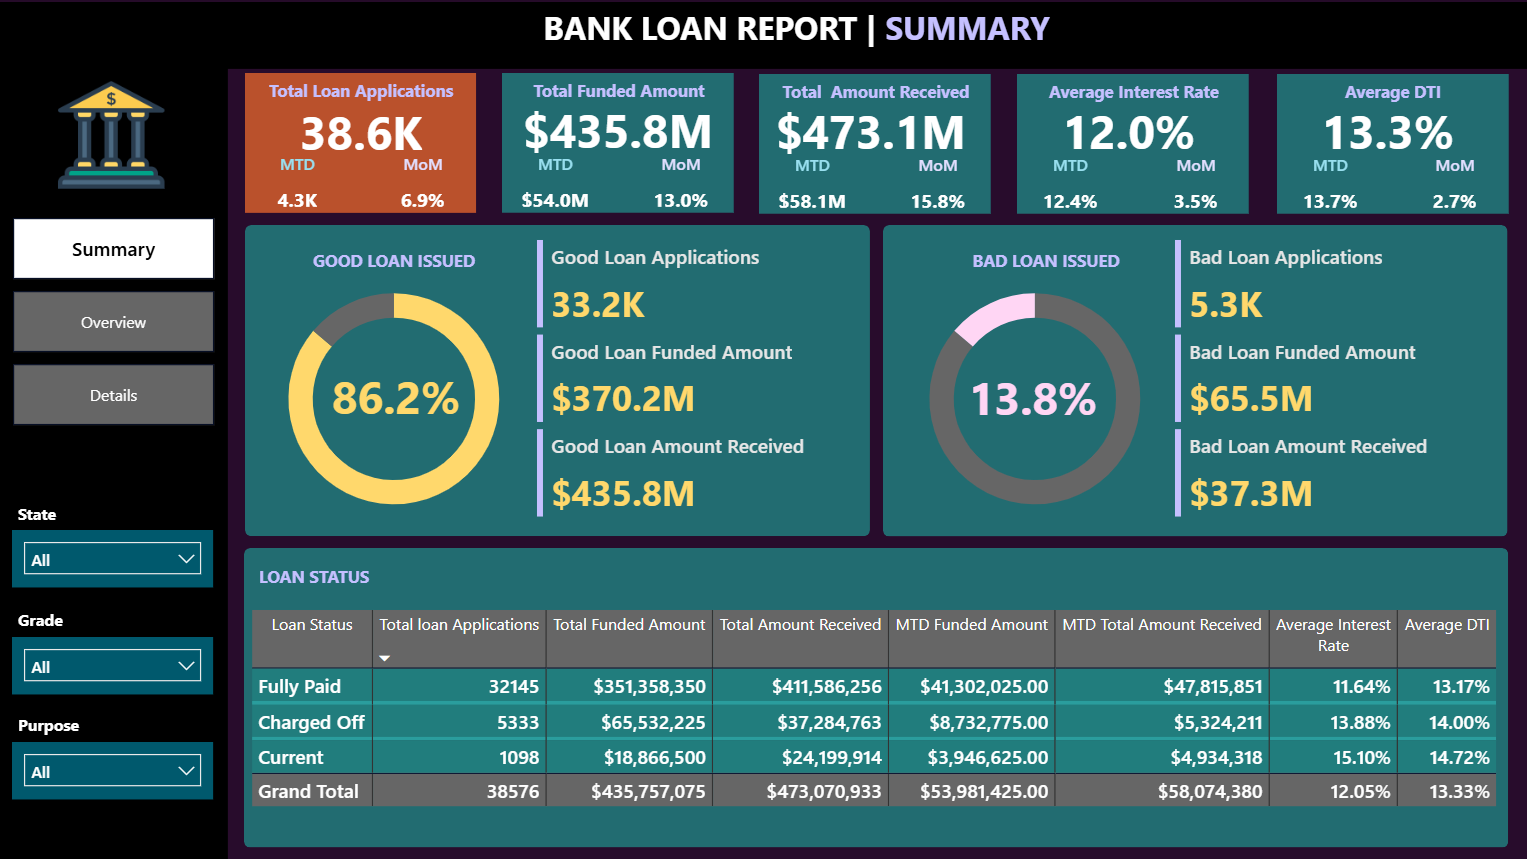

What the dashboard file says about the page in this screenshot:
{"tool":"powerbi","page":{"name":"Summary","canvas":[1280,720],"ordinal":0},"visuals":[{"type":"shape","box":[0,55,192.4,665],"z":0},{"type":"shape","box":[206.5,61.9,193.4,116.8],"z":0,"group":"g1"},{"type":"shape","box":[421,61.9,193.6,116.7],"z":0,"group":"g3"},{"type":"shape","box":[636.1,62.8,193.6,116.7],"z":0,"group":"g4"},{"type":"shape","box":[850.9,62.8,193.6,116.7],"z":0,"group":"g5"},{"type":"shape","box":[1067.6,62.8,193.6,116.7],"z":0,"group":"g6"},{"type":"shape","box":[0,2.7,1280.4,55.9],"z":1000},{"type":"cardVisual","fields":{"Data":["financial_loan.Total Funded Amount"]},"box":[393.3,68.2,249.4,72.8],"z":1000,"group":"g3"},{"type":"cardVisual","fields":{"Data":["financial_loan.Total Amount Received"]},"box":[610.9,68.3,237.6,73.7],"z":1000,"group":"g4"},{"type":"cardVisual","fields":{"Data":["financial_loan.Avg Interest Rate"]},"box":[825.7,68.3,237.6,73.7],"z":1000,"group":"g5"},{"type":"cardVisual","fields":{"Data":["financial_loan.Avg DTI"]},"box":[1042,68.4,237.6,73.7],"z":1000,"group":"g6"},{"type":"cardVisual","fields":{"Data":["financial_loan.Total loan Applications"]},"box":[206.5,70,194.4,72.5],"z":1000,"group":"g1"},{"type":"cardVisual","fields":{"Data":["financial_loan.Good Loan %"]},"box":[250,300,165.7,54.6],"z":1000,"group":"g7"},{"type":"cardVisual","fields":{"Data":["financial_loan.Bad Loan %"]},"box":[782,300.4,165.7,54.6],"z":1000,"group":"g8"},{"type":"textbox","box":[206.3,62.2,193.8,28.8],"z":2000,"group":"g1"},{"type":"textbox","box":[421.6,62.2,193.8,28.8],"z":2000,"group":"g3"},{"type":"textbox","box":[636.8,63.1,193.8,28.8],"z":2000,"group":"g4"},{"type":"textbox","box":[851.6,63.1,193.8,28.8],"z":2000,"group":"g5"},{"type":"textbox","box":[1068.2,63.1,193.8,28.8],"z":2000,"group":"g6"},{"type":"shape","box":[206.7,188.4,522,260],"z":2000},{"type":"textbox","box":[442.6,0,448.4,71],"z":3000},{"type":"cardVisual","title":"MTD","fields":{"Data":["financial_loan.MTD Loan Applicaitons"]},"box":[205.7,128.5,89.4,50],"z":3000,"group":"g1"},{"type":"cardVisual","title":"MTD","fields":{"Data":["financial_loan.MTD Funded Amount"]},"box":[421,128.5,89.4,50],"z":3000,"group":"g3"},{"type":"cardVisual","title":"MTD","fields":{"Data":["financial_loan.MTD Total Amount Received"]},"box":[636.1,129.4,89.4,50],"z":3000,"group":"g4"},{"type":"cardVisual","title":"MTD","fields":{"Data":["financial_loan.MTD Avg Interest Rate"]},"box":[850.9,129.4,89.4,50],"z":3000,"group":"g5"},{"type":"cardVisual","title":"MTD","fields":{"Data":["financial_loan.MTD Avg DTI"]},"box":[1067.6,129.4,89.4,50],"z":3000,"group":"g6"},{"type":"group","id":"g1","title":"Group 2","box":[205.7,61.9,195.5,116.7],"z":3001,"group":"g2"},{"type":"cardVisual","title":"MoM","fields":{"Data":["financial_loan.MoM Loan Application"]},"box":[310.7,129.1,88.8,50],"z":4000,"group":"g1"},{"type":"cardVisual","title":"MoM","fields":{"Data":["financial_loan.MoM Total Funded Amount"]},"box":[526,129.1,88.8,50],"z":4000,"group":"g3"},{"type":"cardVisual","title":"MoM","fields":{"Data":["financial_loan.MoM Total Amount Received"]},"box":[741.1,130,88.8,50],"z":4000,"group":"g4"},{"type":"cardVisual","title":"MoM","fields":{"Data":["financial_loan.MoM Avg Interest Rate"]},"box":[955.9,130,88.8,50],"z":4000,"group":"g5"},{"type":"cardVisual","title":"MoM","fields":{"Data":["financial_loan.MoM Avg DTI"]},"box":[1172.6,130,88.8,50],"z":4000,"group":"g6"},{"type":"textbox","box":[234,203.9,193.9,29.1],"z":4000},{"type":"group","id":"g2","title":"Group 1","box":[205.7,61.9,195.7,116.5],"z":5000},{"type":"group","id":"g3","title":"Group 3","box":[393.3,61.9,249.4,117.4],"z":6000},{"type":"group","id":"g4","title":"Group 3","box":[610.9,62.8,237.6,117.4],"z":7000},{"type":"shape","box":[739.2,188.4,521.7,260.4],"z":8000},{"type":"donutChart","fields":{"Category":["financial_loan.Good vs Bad Loan"],"Y":["financial_loan.Total loan Applications"]},"box":[205.7,218.5,250.4,230.3],"z":9000},{"type":"group","id":"g5","title":"Group 3","box":[825.7,62.8,237.6,117.4],"z":10000},{"type":"group","id":"g6","title":"Group 3","box":[1042,62.8,237.6,117.2],"z":11000},{"type":"group","id":"g7","title":"Group 3","box":[250,300,165.7,54.6],"z":12000},{"type":"cardVisual","fields":{"Data":["financial_loan.Good Loan Applications","financial_loan.Good Loan Funded Amount","financial_loan.Good Loan Amount Received"]},"box":[445.2,196.6,283.1,243.1],"z":13000},{"type":"donutChart","fields":{"Category":["financial_loan.Good vs Bad Loan"],"Y":["financial_loan.Total loan Applications"]},"box":[741.1,218.5,250.4,230.3],"z":14000},{"type":"textbox","box":[778.4,203.9,193.9,29.1],"z":15000},{"type":"group","id":"g8","title":"Group 3","box":[782,300.4,165.7,54.6],"z":16000},{"type":"cardVisual","fields":{"Data":["financial_loan.Bad Loan Applications","financial_loan.Bad Loan Funded Amount","financial_loan.Bad Loan Amount Received"]},"box":[977.8,196.6,283.1,243.1],"z":17000},{"type":"shape","box":[205.7,458.8,1056,250.4],"z":18000},{"type":"tableEx","fields":{"Values":["financial_loan.loan_status","financial_loan.Total loan Applications","financial_loan.Total Funded Amount","financial_loan.Total Amount Received","financial_loan.MTD Funded Amount","financial_loan.MTD Total Amount Received","financial_loan.Avg Interest Rate","financial_loan.Avg DTI"]},"box":[206.7,505.3,1056,179.3],"z":19000},{"type":"textbox","box":[213,467.9,193.9,29.1],"z":20000},{"type":"slicer","fields":{"Values":["financial_loan.address_state"]},"box":[11.8,443.3,168.4,48.3],"z":21000,"group":"g9"},{"type":"textbox","box":[11.8,415.1,55.5,29.1],"z":22000,"group":"g9"},{"type":"slicer","fields":{"Values":["financial_loan.grade"]},"box":[11.8,532.5,168.4,48.3],"z":23000,"group":"g9"},{"type":"slicer","fields":{"Values":["financial_loan.address_state","financial_loan.purpose"]},"box":[11.8,620.8,168.4,48.3],"z":24000,"group":"g9"},{"type":"textbox","box":[11.8,503.4,55.5,29.1],"z":25000,"group":"g9"},{"type":"textbox","box":[11.8,591.7,84.7,29.1],"z":26000,"group":"g9"},{"type":"group","id":"g9","title":"Group 4","box":[11.8,415.1,168.4,254],"z":26001},{"type":"group","id":"g10","title":"Group 5","box":[12.4,58.5,168.5,298.8],"z":26002},{"type":"pageNavigator","box":[12.4,182.6,168.5,174.7],"z":27000,"group":"g10"},{"type":"image","box":[45.2,58.5,99.3,110],"z":28000,"group":"g10"}]}

Visuals, with their boxes in screenshot pixels (x1, y1, x2, y2), scaled from the page's 1280x720 canvas onto the 1527x859 screenshot:
shape: (0,66,230,858)
shape: (246,74,477,213)
shape: (502,74,733,213)
shape: (759,75,990,214)
shape: (1015,75,1246,214)
shape: (1274,75,1505,214)
shape: (0,3,1526,70)
cardVisual - financial_loan.Total Funded Amount: (469,81,767,168)
cardVisual - financial_loan.Total Amount Received: (729,81,1012,169)
cardVisual - financial_loan.Avg Interest Rate: (985,81,1268,169)
cardVisual - financial_loan.Avg DTI: (1243,82,1526,170)
cardVisual - financial_loan.Total loan Applications: (246,84,478,170)
cardVisual - financial_loan.Good Loan %: (298,358,496,423)
cardVisual - financial_loan.Bad Loan %: (933,358,1131,424)
textbox: (246,74,477,109)
textbox: (503,74,734,109)
textbox: (760,75,991,110)
textbox: (1016,75,1247,110)
textbox: (1274,75,1506,110)
shape: (247,225,869,535)
textbox: (528,0,1063,85)
"MTD" cardVisual: (245,153,352,213)
"MTD" cardVisual: (502,153,609,213)
"MTD" cardVisual: (759,154,865,214)
"MTD" cardVisual: (1015,154,1122,214)
"MTD" cardVisual: (1274,154,1380,214)
"Group 2" group: (245,74,479,213)
"MoM" cardVisual: (371,154,477,214)
"MoM" cardVisual: (628,154,733,214)
"MoM" cardVisual: (884,155,990,215)
"MoM" cardVisual: (1140,155,1246,215)
"MoM" cardVisual: (1399,155,1505,215)
textbox: (279,243,510,278)
"Group 1" group: (245,74,479,213)
"Group 3" group: (469,74,767,214)
"Group 3" group: (729,75,1012,215)
shape: (882,225,1504,535)
donutChart - financial_loan.Good vs Bad Loan x financial_loan.Total loan Applications: (245,261,544,535)
"Group 3" group: (985,75,1268,215)
"Group 3" group: (1243,75,1526,215)
"Group 3" group: (298,358,496,423)
cardVisual - financial_loan.Good Loan Applications x financial_loan.Good Loan Funded Amount: (531,235,869,525)
donutChart - financial_loan.Good vs Bad Loan x financial_loan.Total loan Applications: (884,261,1183,535)
textbox: (929,243,1160,278)
"Group 3" group: (933,358,1131,424)
cardVisual - financial_loan.Bad Loan Applications x financial_loan.Bad Loan Funded Amount: (1166,235,1504,525)
shape: (245,547,1505,846)
tableEx - financial_loan.loan_status x financial_loan.Total loan Applications: (247,603,1506,817)
textbox: (254,558,485,593)
slicer - financial_loan.address_state: (14,529,215,587)
textbox: (14,495,80,530)
slicer - financial_loan.grade: (14,635,215,693)
slicer - financial_loan.address_state x financial_loan.purpose: (14,741,215,798)
textbox: (14,601,80,635)
textbox: (14,706,115,741)
"Group 4" group: (14,495,215,798)
"Group 5" group: (15,70,216,426)
pageNavigator: (15,218,216,426)
image: (54,70,172,201)
